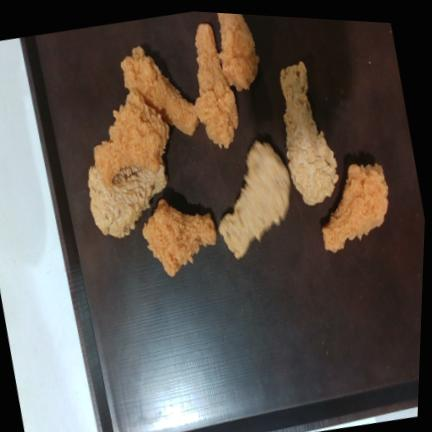chicken: (219, 140, 290, 258), (280, 61, 338, 205), (94, 91, 168, 186), (121, 47, 199, 135), (322, 164, 388, 252), (88, 165, 167, 237), (143, 199, 216, 276), (195, 23, 238, 148), (218, 13, 259, 90)
